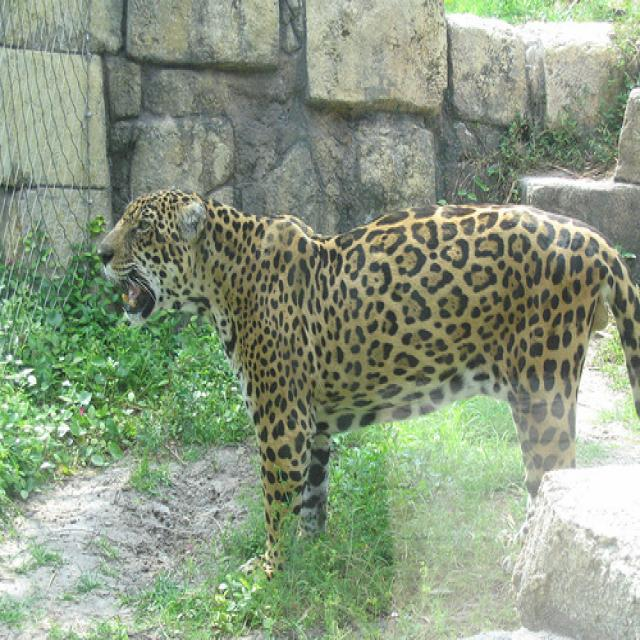Leopard: (98, 186, 638, 579)
